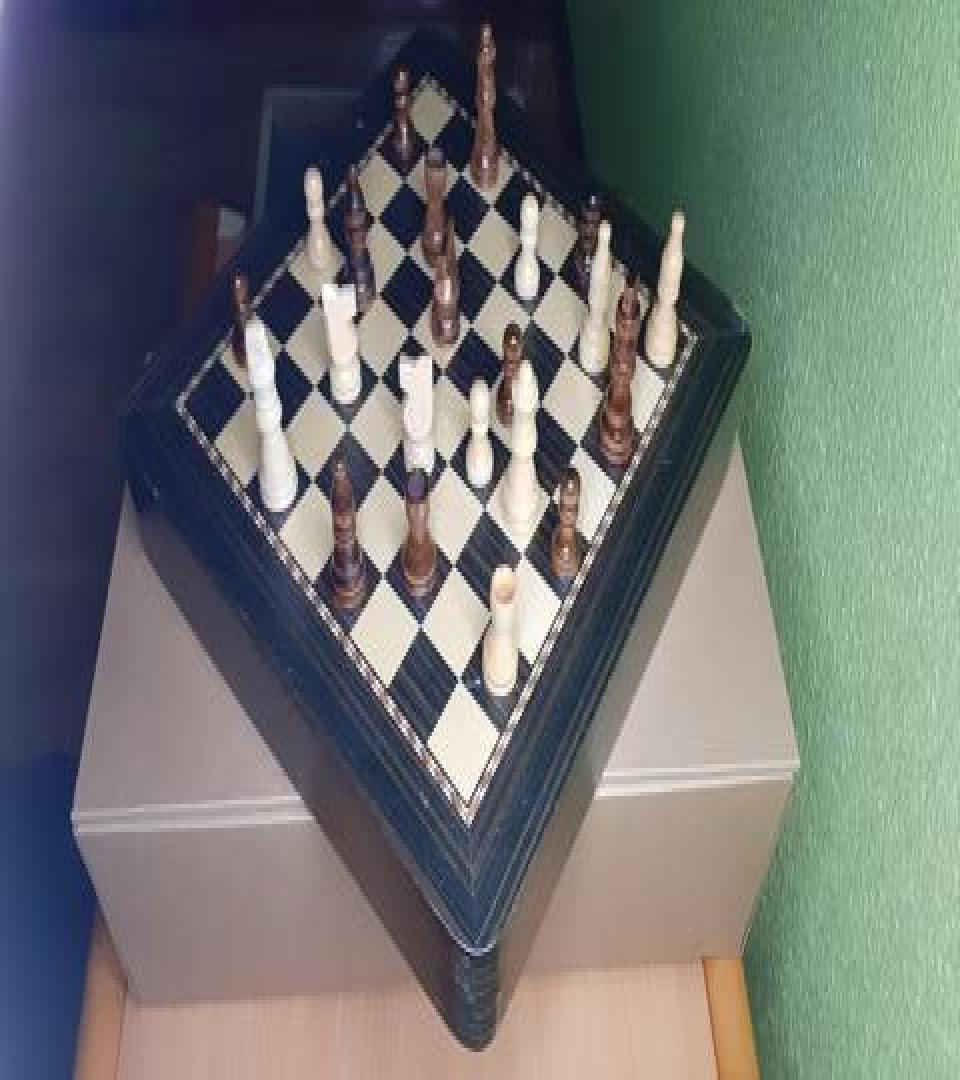xcorner: (425, 126, 437, 150), (399, 164, 411, 188), (370, 204, 382, 228), (341, 246, 353, 270), (309, 290, 321, 314), (276, 336, 288, 360), (242, 386, 254, 410), (456, 158, 468, 182), (429, 198, 441, 222), (401, 238, 413, 262), (372, 282, 384, 306), (341, 328, 353, 352), (308, 376, 320, 400), (273, 428, 285, 452), (487, 190, 499, 214), (461, 230, 473, 254), (433, 274, 445, 298), (404, 320, 416, 344), (373, 368, 385, 392), (341, 418, 353, 442), (306, 472, 318, 496), (520, 224, 532, 248), (494, 266, 506, 290), (467, 312, 479, 336), (438, 358, 450, 382), (407, 410, 419, 434), (375, 462, 387, 486), (341, 518, 353, 542), (554, 258, 566, 282), (529, 304, 541, 328), (502, 350, 514, 374), (473, 400, 485, 424), (443, 452, 455, 476), (411, 508, 423, 532), (377, 568, 389, 592), (590, 294, 602, 318), (565, 342, 577, 366), (538, 390, 550, 414), (510, 442, 522, 466), (480, 498, 492, 522), (449, 556, 461, 580), (415, 618, 427, 642), (627, 332, 639, 356), (602, 382, 614, 406), (576, 432, 588, 456), (549, 488, 561, 512), (519, 544, 531, 568), (488, 606, 500, 630), (455, 672, 467, 696)
